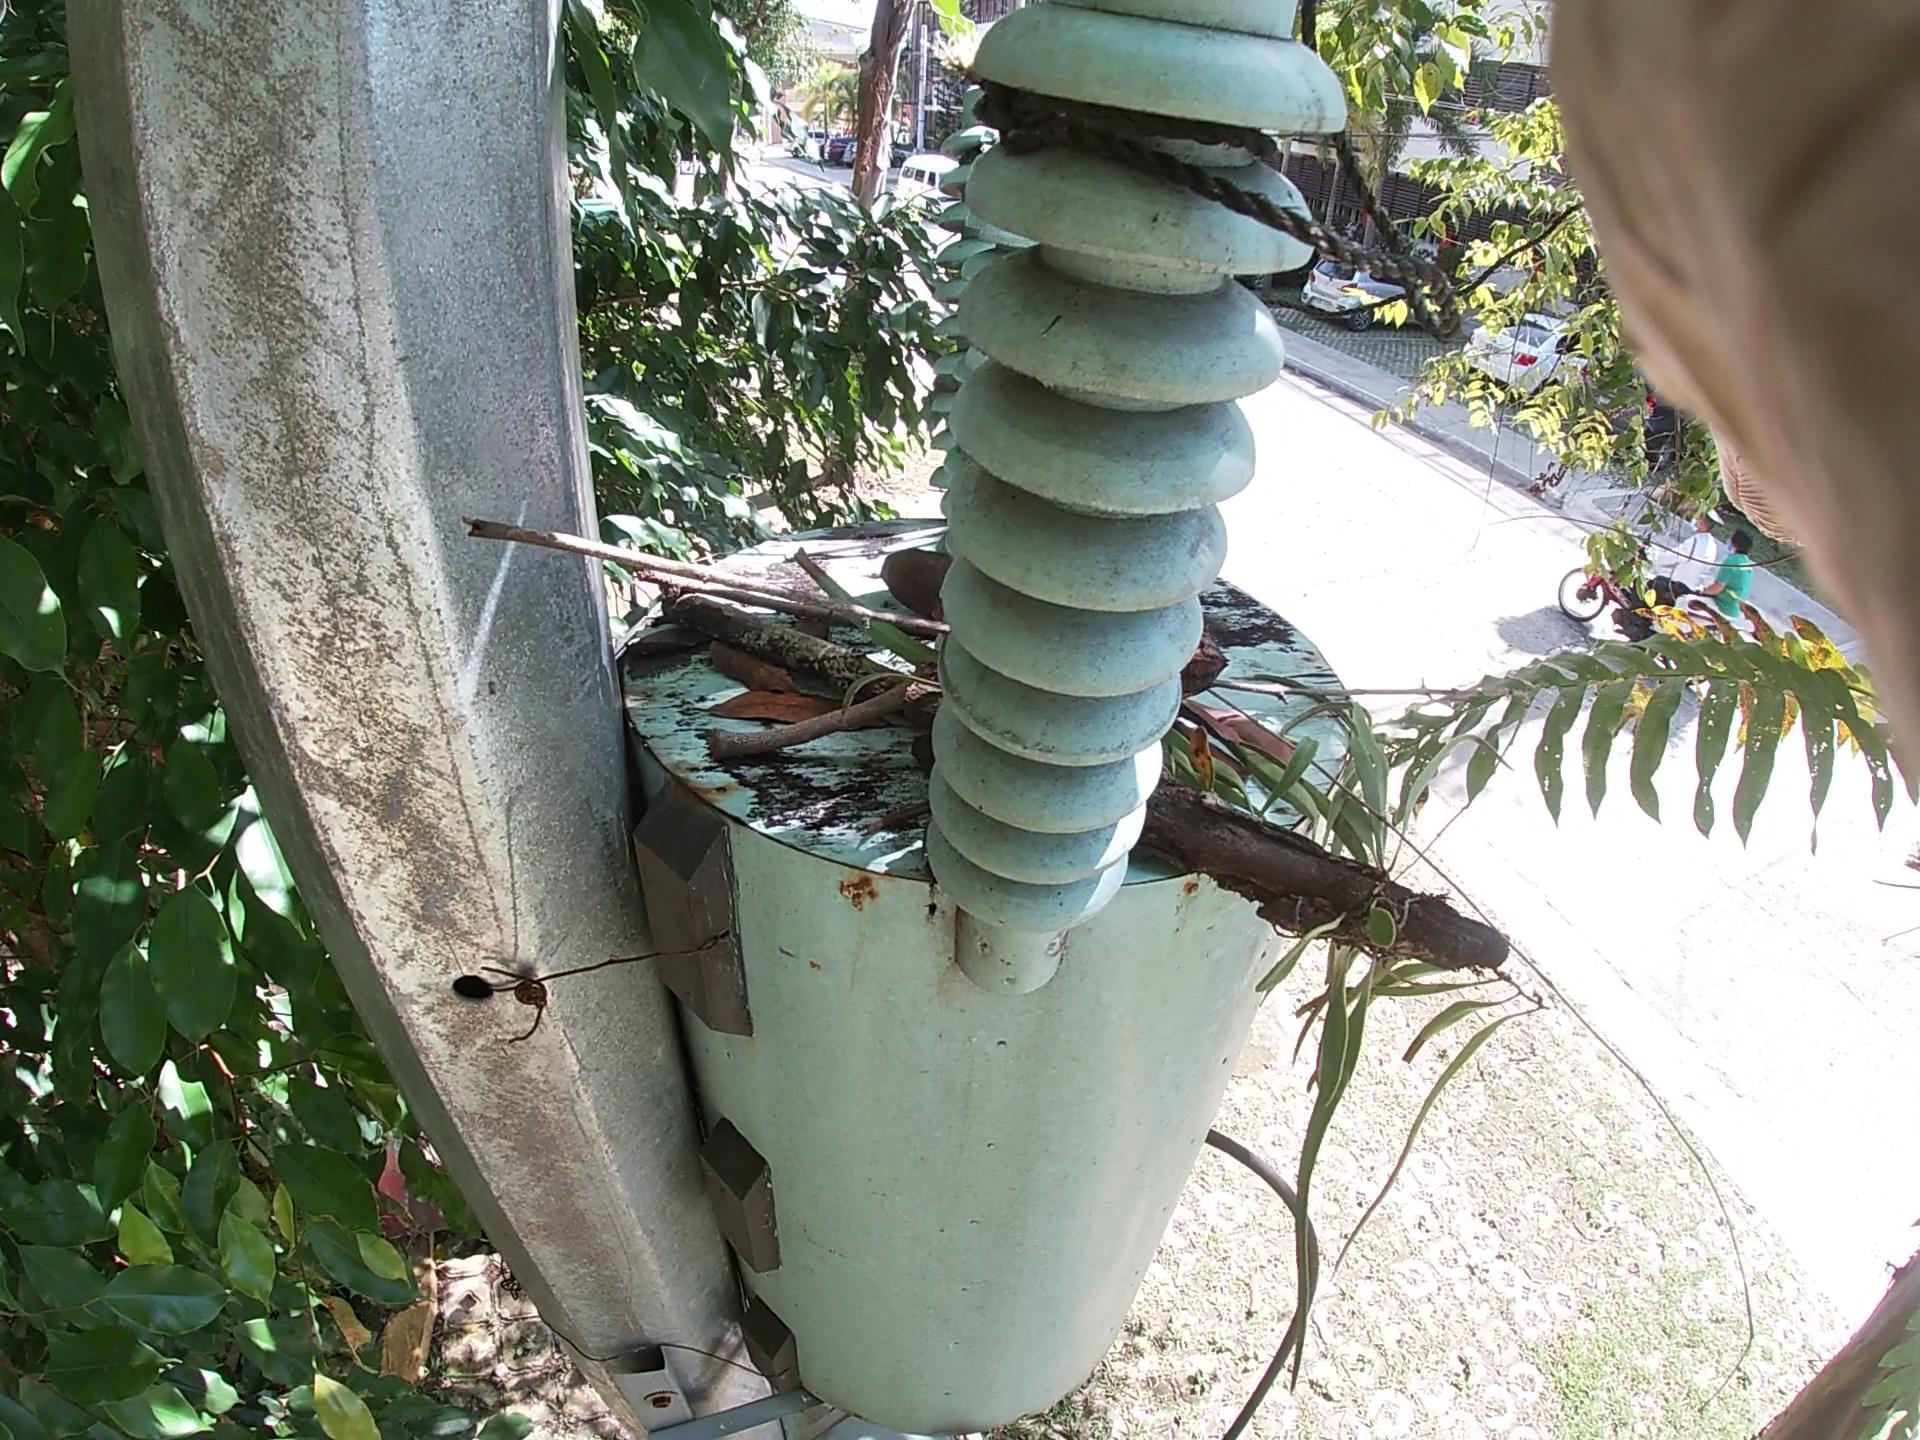branch with leaves: (665, 585, 1516, 1010)
leaf: (705, 687, 844, 729), (698, 637, 803, 691)
mahogany fruit: (813, 513, 1271, 725)
tree branch: (454, 510, 949, 649), (689, 682, 962, 755)
